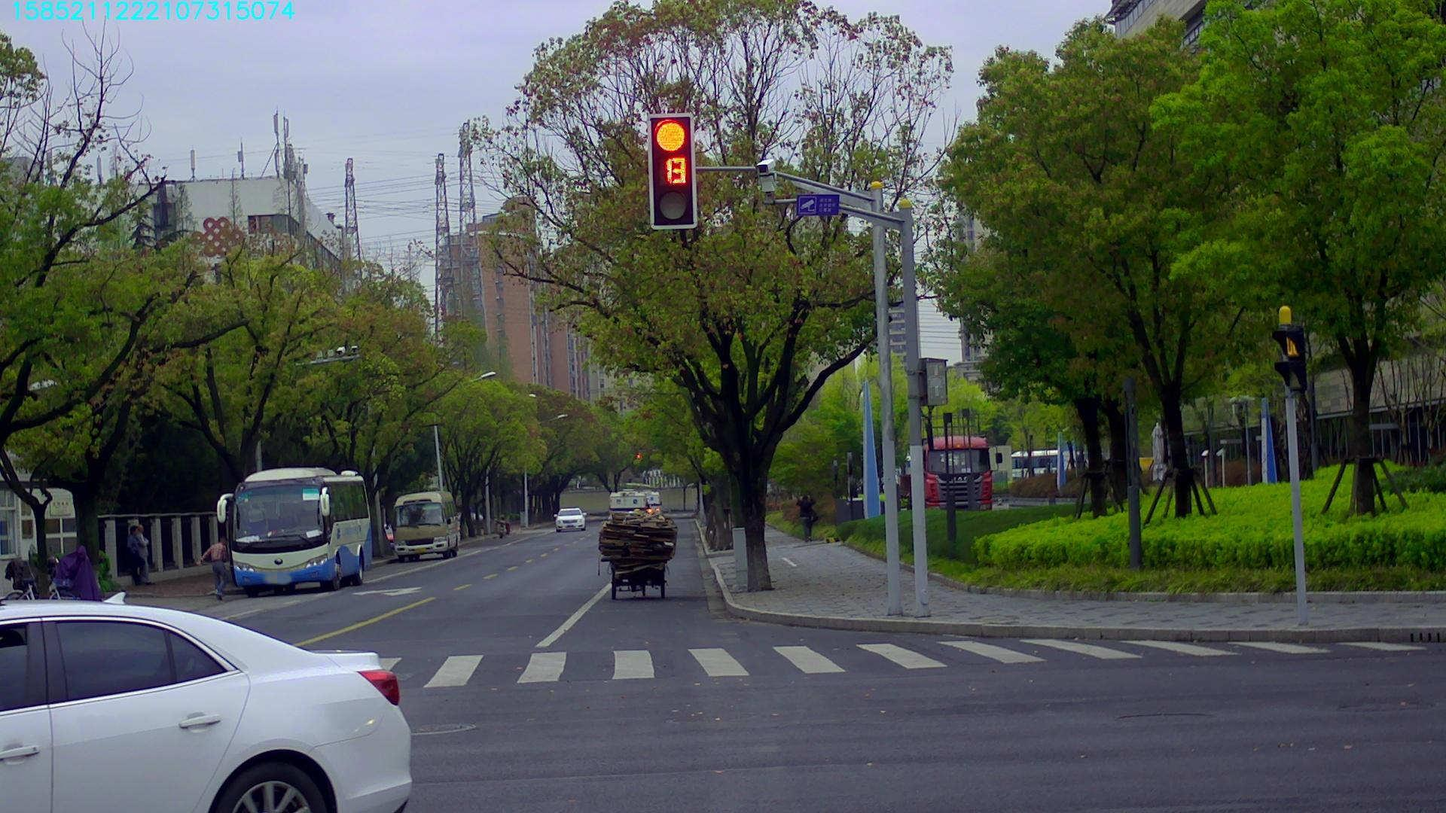red: (650, 115, 694, 226)
